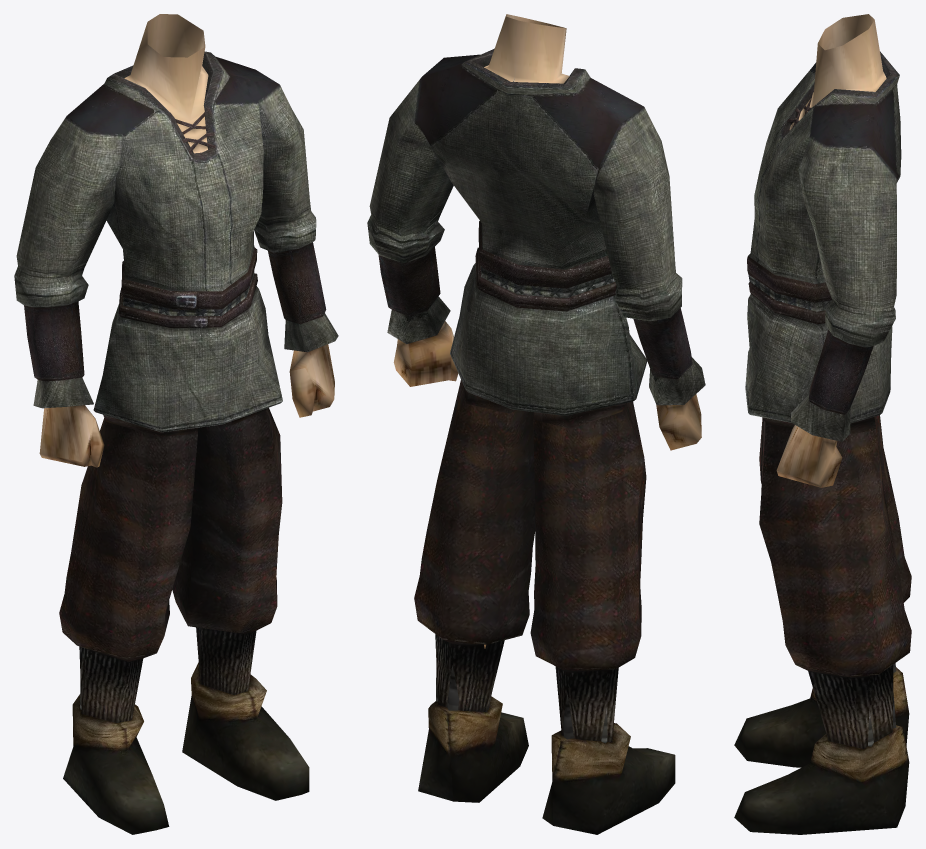
Rendered from GS_SLAV_VLK_02_1_KOZA.glb.
3 views of the same model, side by side, from view 1: azimuth 30°, elevation 25°; view 2: azimuth 150°, elevation 25°; view 3: azimuth 270°, elevation 25° (orthographic). The views are drawn at different scales.
Parts seen in each view (by area): view 1: GS_SLAV_VLK_02_1_KOZA; view 2: GS_SLAV_VLK_02_1_KOZA; view 3: GS_SLAV_VLK_02_1_KOZA.
Part boxes in pixels (x1,y1,x2,y2): GS_SLAV_VLK_02_1_KOZA: (14,14,338,834); GS_SLAV_VLK_02_1_KOZA: (367,14,705,834); GS_SLAV_VLK_02_1_KOZA: (734,14,911,834).
Size of the model in its own units: 0.6903 by 1.68 by 0.3516.
Materials: 3 (3 with a texture image).
